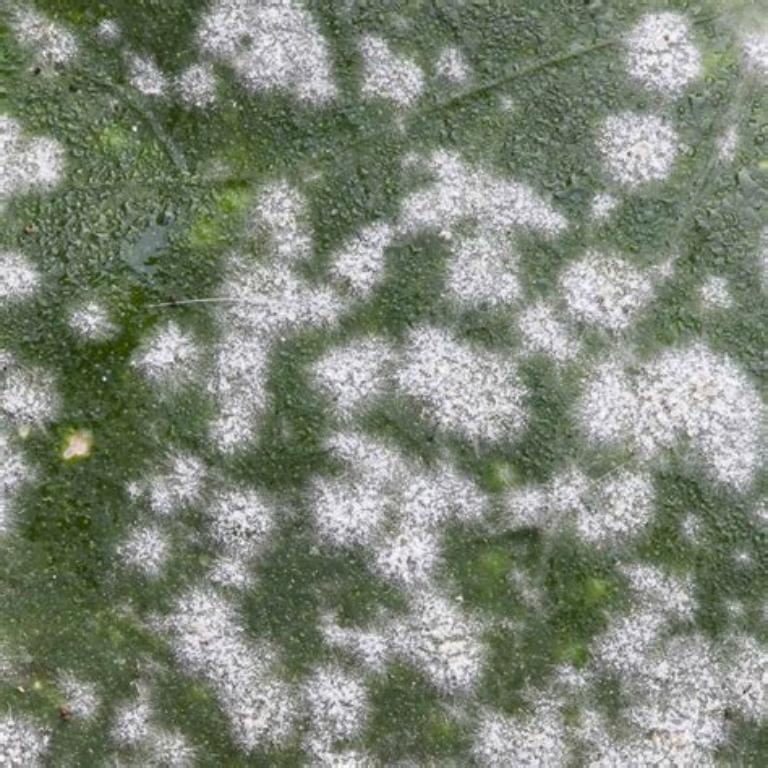powdery-mildew: (63, 65, 750, 762)
